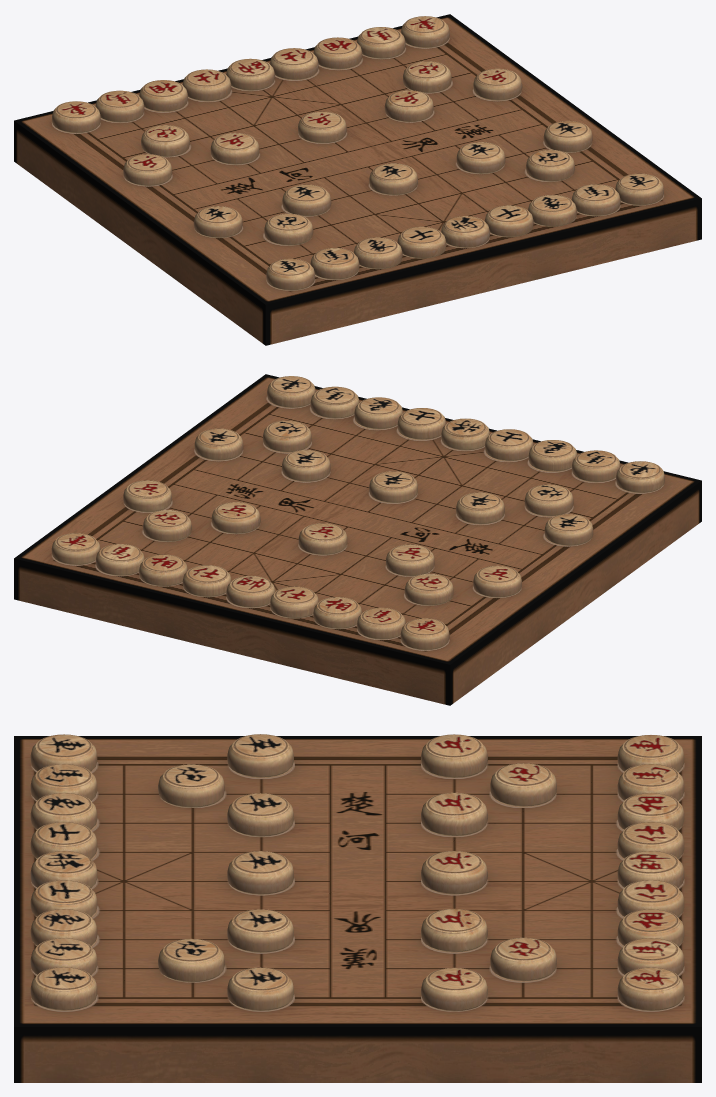
The model's file is xiangqi.glb.
3 views of the same model, one above another, from view 1: azimuth 30°, elevation 25°; view 2: azimuth 150°, elevation 25°; view 3: azimuth 270°, elevation 25° (orthographic). The views are drawn at different scales.
Parts seen in each view (by area): view 1: W001, W002; view 2: W001, W002; view 3: W001, W002.
Boxes of the visible parts, x1,y1,x2,y2 form: W001: [14, 14, 701, 345]; W002: [52, 16, 663, 290]; W001: [14, 374, 701, 705]; W002: [51, 376, 664, 650]; W001: [14, 736, 701, 1082]; W002: [30, 734, 684, 1011].
Bounding box in the file's own units: 1.43 × 0.173 × 1.43.
1 material, 1 textured.
